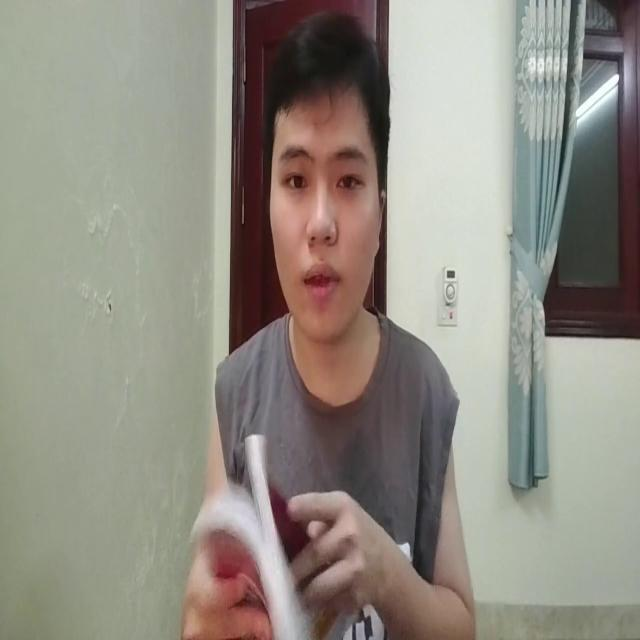book: (191, 426, 379, 635)
student: (186, 0, 475, 640)
